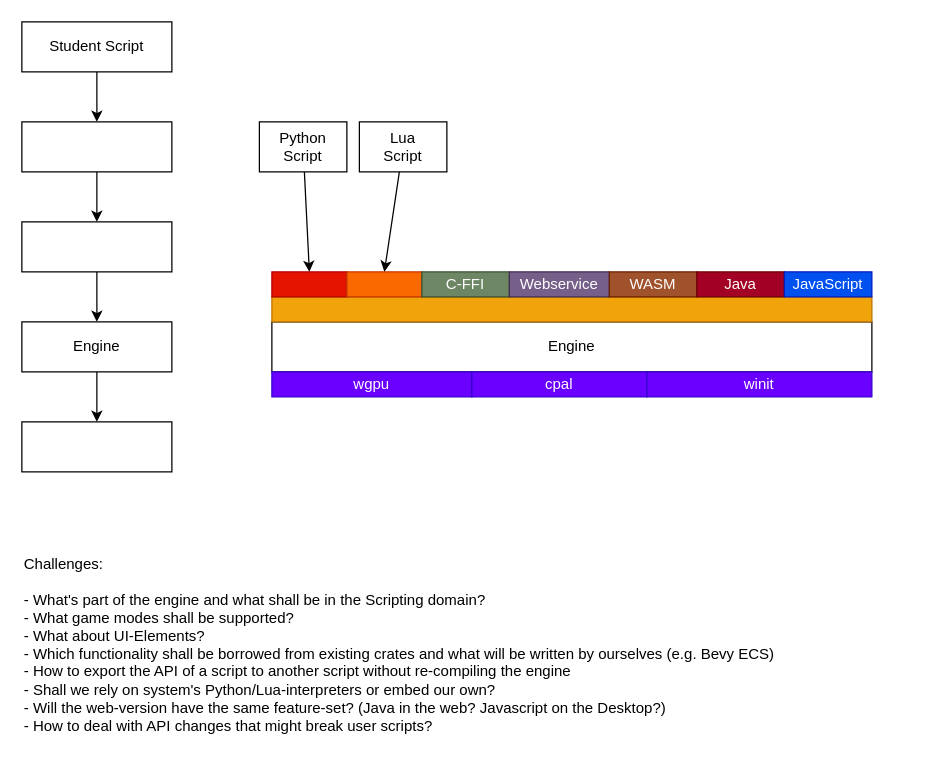
Image size: 944x758. Some labels were removed from this diagram. Here are the shapes that lost their labels. From the top down, the box of each, then its label:
(21, 121, 172, 172): Teacher Script
(21, 221, 172, 272): Game Script
(271, 271, 347, 297): Python
(346, 271, 422, 297): Lua
(271, 296, 872, 322): API
(21, 421, 172, 472): Platform
